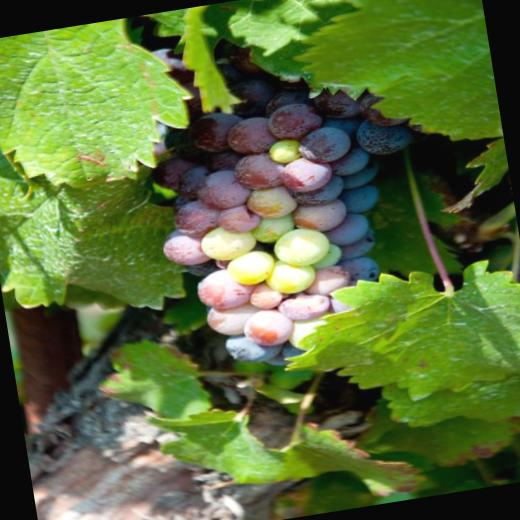Orange: (134, 14, 443, 382)
